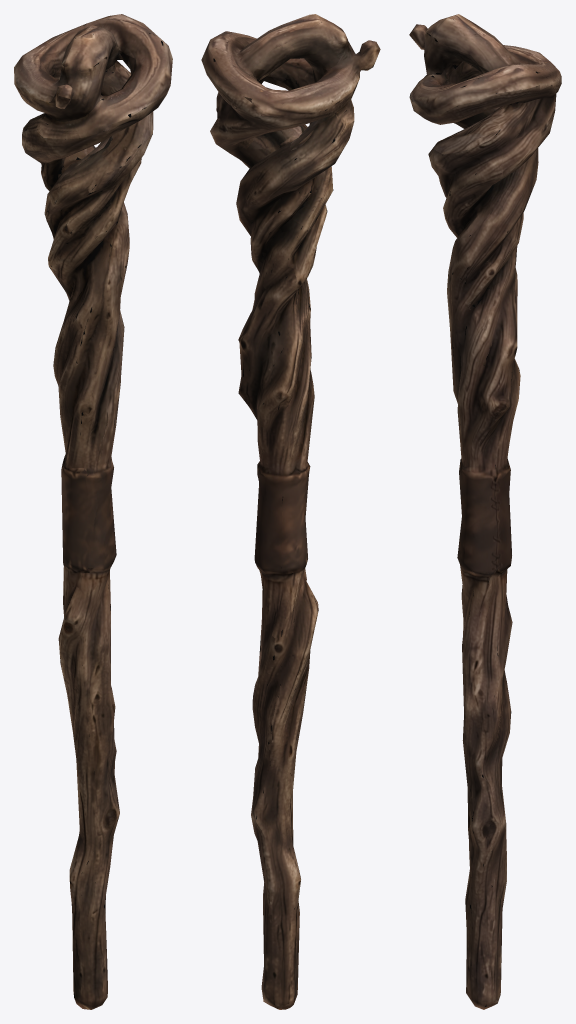
The model's file is SM_Staff_Twisted_Root_Staff.FBX.
3 views of the same model, side by side, from view 1: azimuth 30°, elevation 25°; view 2: azimuth 150°, elevation 25°; view 3: azimuth 270°, elevation 25° (orthographic).
Parts seen in each view (by area): view 1: SM_Staff_Twisted_Root_Staff; view 2: SM_Staff_Twisted_Root_Staff; view 3: SM_Staff_Twisted_Root_Staff.
Part boxes in pixels (left/top/right/bottom): SM_Staff_Twisted_Root_Staff: left=14, top=14, right=172, bottom=1009; SM_Staff_Twisted_Root_Staff: left=201, top=14, right=380, bottom=1009; SM_Staff_Twisted_Root_Staff: left=409, top=14, right=561, bottom=1009.
Size of what is drawn, in the model's own units: 23.02 by 22.35 by 159.
